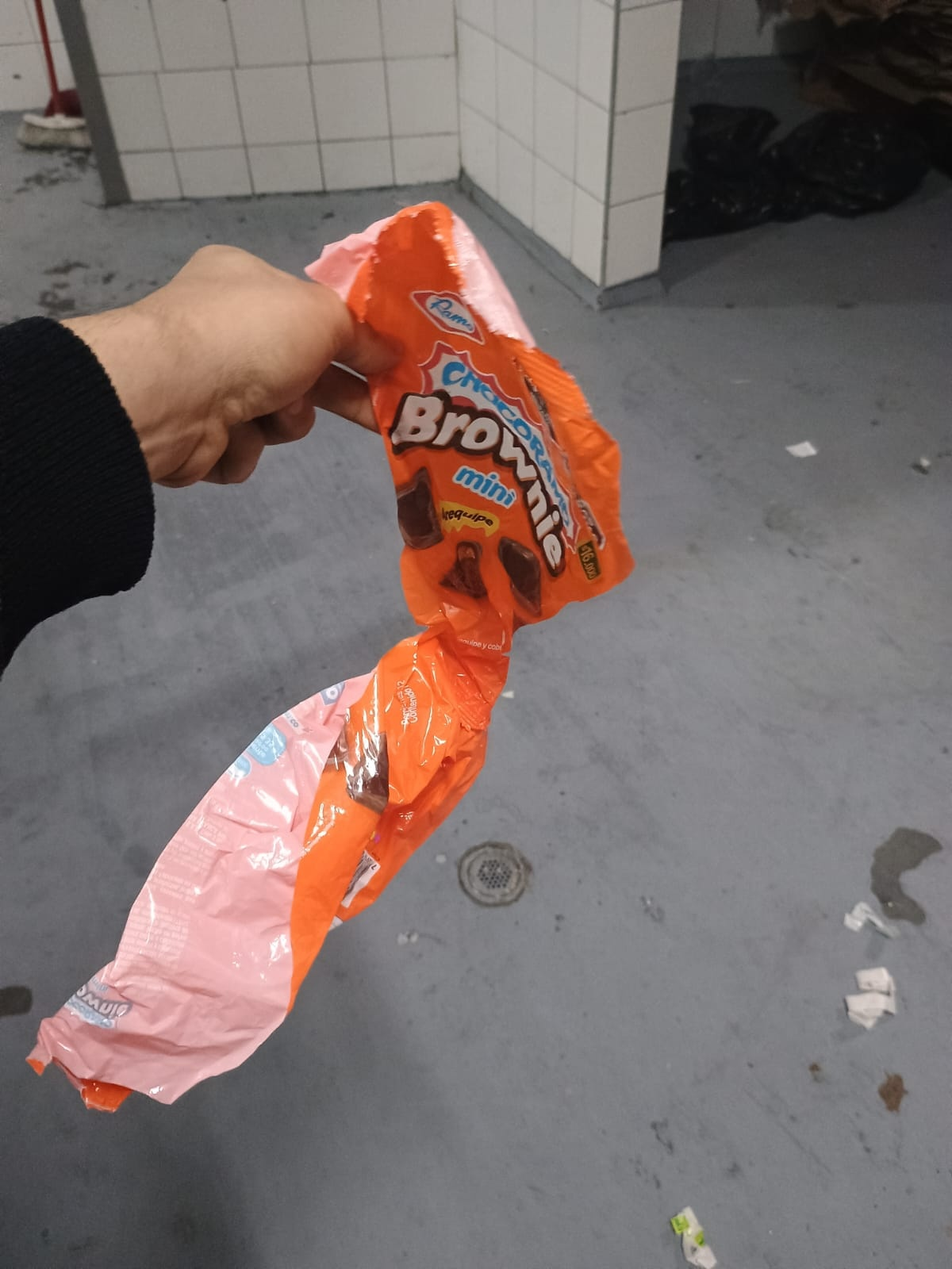Ordinario: (27, 202, 637, 1115)
